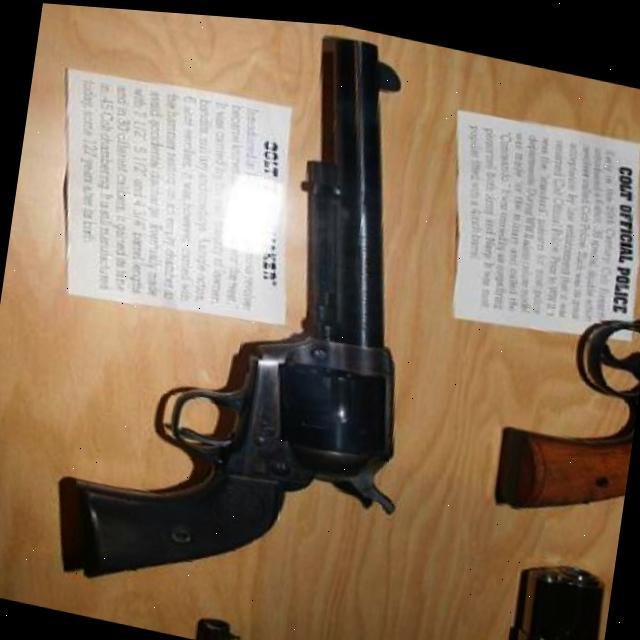gun: (61, 4, 459, 636), (492, 246, 640, 520), (444, 529, 607, 640)
